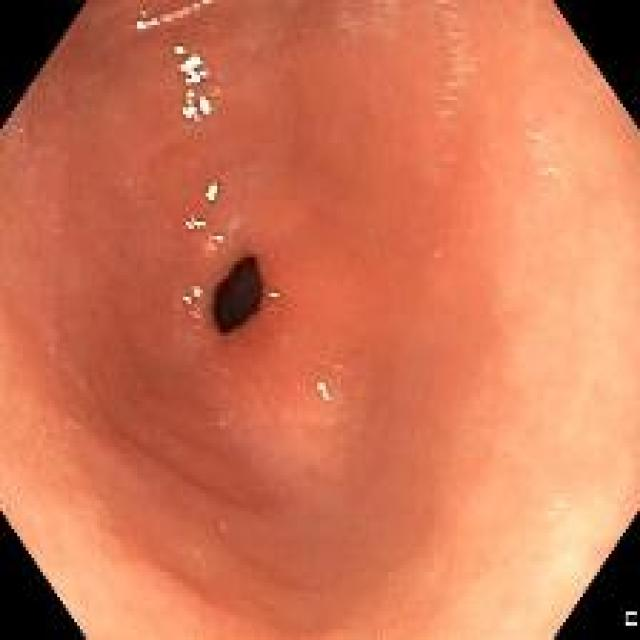bubbles: (437, 62, 478, 117), (438, 4, 467, 57), (14, 126, 28, 152), (540, 161, 559, 180), (188, 310, 203, 330), (524, 128, 539, 144)
contrast: (210, 255, 265, 336)
saturation: (492, 199, 639, 459), (493, 454, 638, 640), (14, 514, 138, 638)
specularity: (175, 50, 213, 120), (183, 284, 202, 304), (315, 381, 331, 401), (135, 17, 159, 28), (184, 217, 205, 229), (205, 183, 217, 199), (207, 233, 224, 242), (173, 43, 184, 53), (268, 288, 276, 297)
